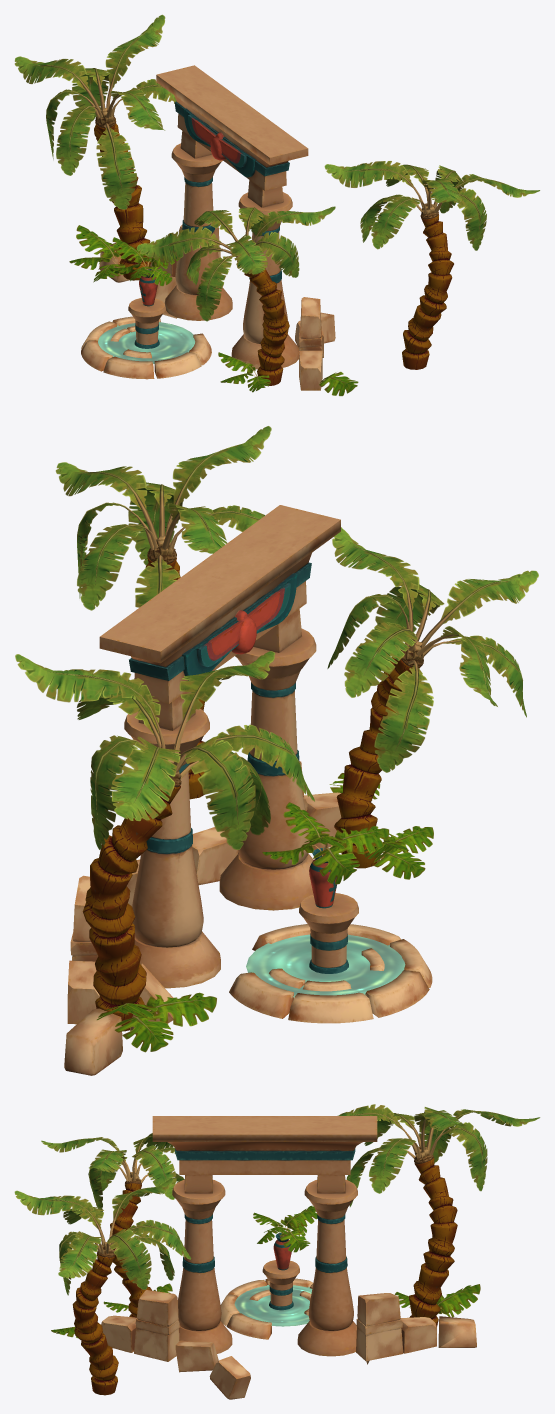
File: gate.glb
The picture shows the model from 3 angles, top to bottom: view 1: azimuth 30°, elevation 25°; view 2: azimuth 150°, elevation 25°; view 3: azimuth 270°, elevation 25°; orthographic projection. The views are drawn at different scales.
Visible parts, largest first — view 1: Arch_TEXTURE_0, Box034, Box036, Box035, Round Stone007_TEXTURE_0, Water001_TEXTURE 3_0, Stones001_TEXTURE_0, Box052_TEXTURE 2_0, Box042_TEXTURE 2_0, Object025_TEXTURE_0, Box051_TEXTURE 2_0, Vase_TEXTURE_0; view 2: Arch_TEXTURE_0, Box034, Box035, Box036, Round Stone007_TEXTURE_0, Water001_TEXTURE 3_0, Box042_TEXTURE 2_0, Box052_TEXTURE 2_0, Object025_TEXTURE_0, Object023_TEXTURE_0, Stones_TEXTURE_0, Box051_TEXTURE 2_0 (+4 smaller); view 3: Arch_TEXTURE_0, Box036, Box034, Box035, Stones_TEXTURE_0, Stones001_TEXTURE_0, Water001_TEXTURE 3_0, Round Stone007_TEXTURE_0, Box042_TEXTURE 2_0, Object027_TEXTURE_0, Object025_TEXTURE_0, Object026_TEXTURE_0 (+3 smaller).
Part boxes in pixels (x1,y1,x2,y2): Arch_TEXTURE_0: (156, 65, 308, 369); Box034: (14, 14, 176, 280); Box036: (324, 161, 539, 369); Box035: (136, 206, 335, 386); Round Stone007_TEXTURE_0: (81, 316, 211, 379); Water001_TEXTURE 3_0: (98, 322, 195, 363); Stones001_TEXTURE_0: (299, 297, 322, 390); Box052_TEXTURE 2_0: (69, 225, 358, 396); Box042_TEXTURE 2_0: (108, 237, 179, 286); Object025_TEXTURE_0: (128, 298, 165, 348); Box051_TEXTURE 2_0: (218, 352, 270, 392); Vase_TEXTURE_0: (139, 269, 157, 306); Arch_TEXTURE_0: (99, 505, 340, 988); Box034: (15, 651, 314, 1031); Box035: (327, 527, 538, 868); Box036: (55, 426, 271, 799); Round Stone007_TEXTURE_0: (229, 924, 432, 1023); Water001_TEXTURE 3_0: (246, 934, 405, 997); Box042_TEXTURE 2_0: (262, 802, 389, 884); Box052_TEXTURE 2_0: (97, 773, 380, 1052); Object025_TEXTURE_0: (299, 893, 358, 973); Object023_TEXTURE_0: (64, 1008, 122, 1075); Stones_TEXTURE_0: (67, 875, 99, 1024); Box051_TEXTURE 2_0: (364, 826, 433, 879); Arch_TEXTURE_0: (152, 1116, 377, 1356); Box036: (14, 1178, 191, 1395); Box034: (337, 1104, 540, 1327); Box035: (41, 1133, 184, 1317); Stones_TEXTURE_0: (356, 1293, 436, 1361); Stones001_TEXTURE_0: (101, 1290, 179, 1361); Water001_TEXTURE 3_0: (234, 1285, 312, 1326); Round Stone007_TEXTURE_0: (220, 1278, 313, 1339); Box042_TEXTURE 2_0: (253, 1205, 317, 1252); Object027_TEXTURE_0: (209, 1356, 250, 1399); Object025_TEXTURE_0: (262, 1260, 299, 1310); Object026_TEXTURE_0: (175, 1340, 218, 1372).
Size of the model in its own units: 473 by 347 by 642.
Materials: 3 (3 with a texture image).
